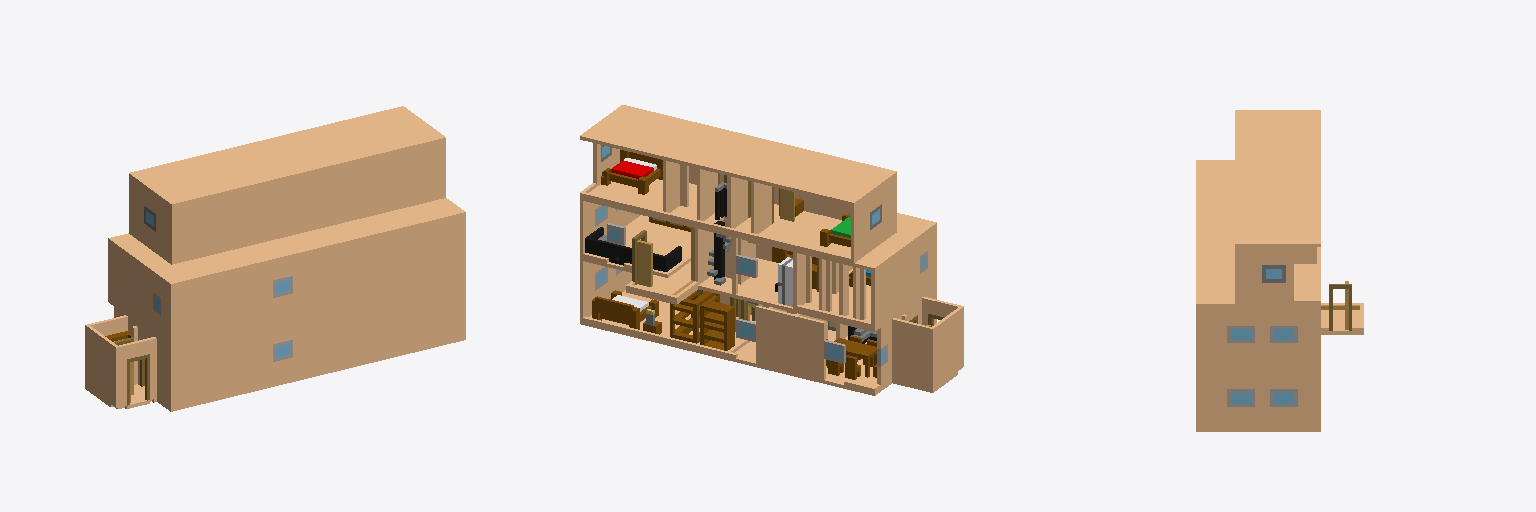
The picture shows the model from 3 angles: view 1: azimuth 30°, elevation 25°; view 2: azimuth 150°, elevation 25°; view 3: azimuth 270°, elevation 25°; orthographic projection.
Visible parts, largest first — view 1: AllFloors; view 2: AllFloors; view 3: AllFloors.
Boxes of the visible parts, x1,y1,x2,y2 form: AllFloors: [85, 106, 465, 411]; AllFloors: [580, 105, 963, 395]; AllFloors: [1196, 110, 1363, 431].
Bounding box in the file's own units: 99 × 53 × 43.
Materials: 1 (1 with a texture image).